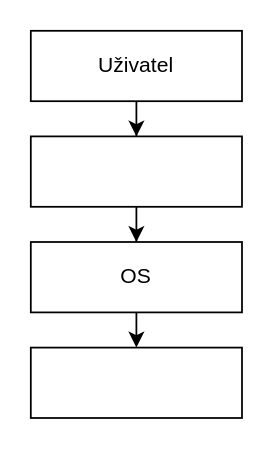
Image size: 273x449. Some labels were removed from this diagram. The centre of each missing label's shape, as x and y in pixels:
Aplikace: (x=135, y=171)
Hardware: (x=135, y=382)
